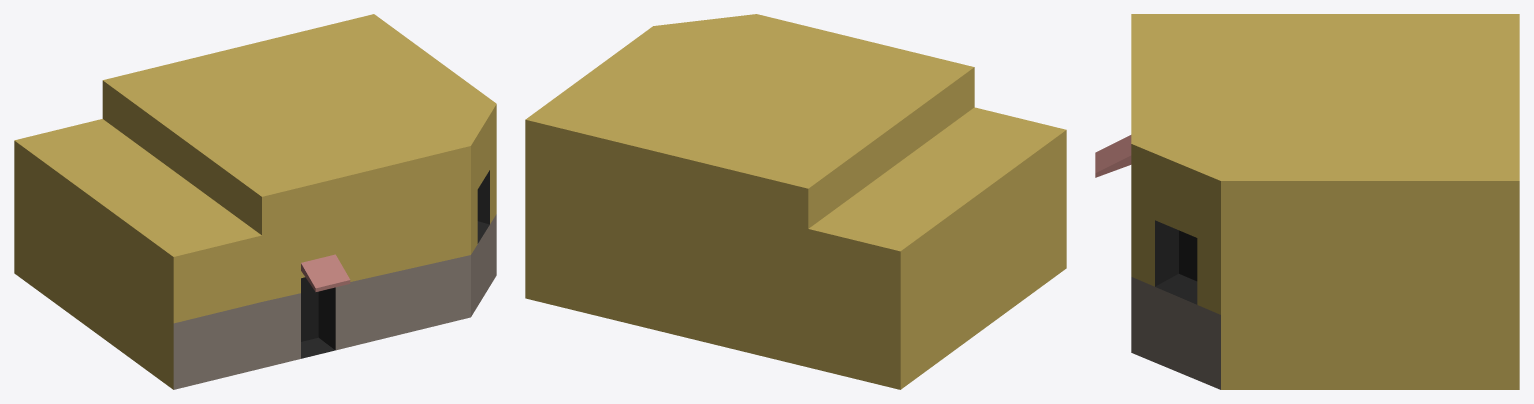
Rendered from loja_6.fbx.
3 renders of one model, left to right at view 1: azimuth 30°, elevation 25°; view 2: azimuth 150°, elevation 25°; view 3: azimuth 270°, elevation 25°, orthographic. The views are drawn at different scales.
Visible parts, largest first — view 1: Cube; view 2: Cube; view 3: Cube.
Part boxes in pixels (x1,y1,x2,y2): Cube: (14,14,496,389); Cube: (525,14,1066,389); Cube: (1095,14,1519,389).
Bounding box in the file's own units: 3140 × 1430 × 2631.
